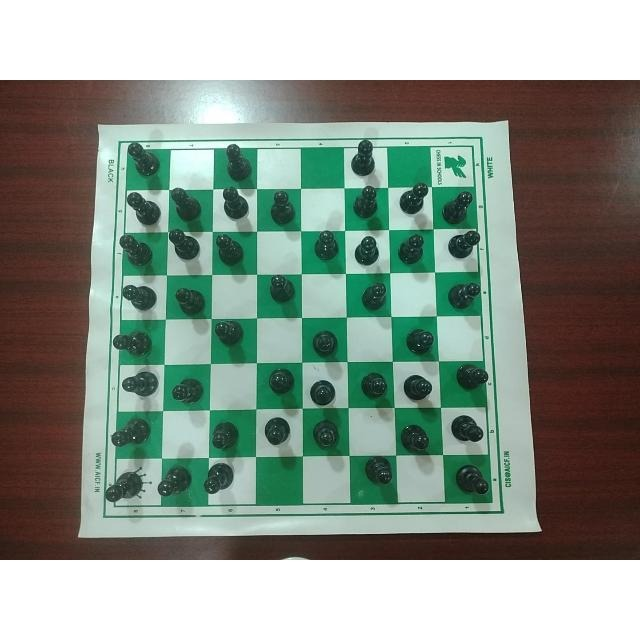black-pawn: (103, 467, 148, 510), (451, 460, 493, 502), (107, 418, 155, 453), (155, 464, 195, 505), (395, 416, 432, 455), (451, 361, 492, 395), (116, 233, 156, 267), (167, 374, 207, 408), (126, 189, 162, 226), (111, 329, 155, 359), (258, 412, 291, 452), (125, 142, 161, 178), (360, 455, 396, 491), (439, 188, 474, 225), (399, 369, 437, 403), (308, 417, 342, 455), (119, 371, 159, 403), (448, 414, 488, 446), (396, 183, 431, 219), (119, 280, 157, 313), (219, 142, 251, 181), (443, 230, 482, 262), (209, 416, 241, 455), (217, 184, 251, 220), (213, 232, 247, 268), (202, 464, 236, 500), (170, 187, 202, 225), (265, 189, 297, 227), (395, 231, 428, 267), (262, 273, 298, 306), (308, 373, 342, 407), (344, 140, 376, 176), (352, 185, 384, 221), (167, 229, 203, 261), (173, 286, 209, 318), (444, 279, 481, 310), (355, 370, 390, 402), (263, 366, 299, 397), (400, 324, 436, 354), (355, 280, 388, 312), (307, 229, 338, 263), (307, 328, 339, 360), (212, 318, 245, 349), (350, 235, 381, 267)
